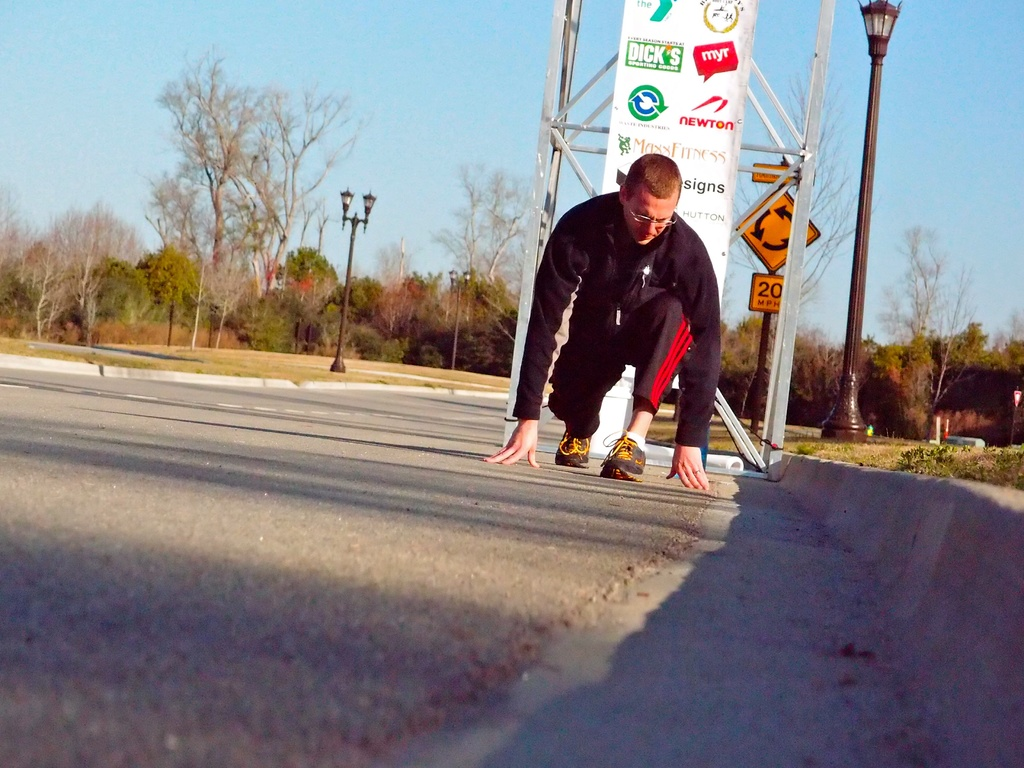person: (482, 151, 722, 493)
